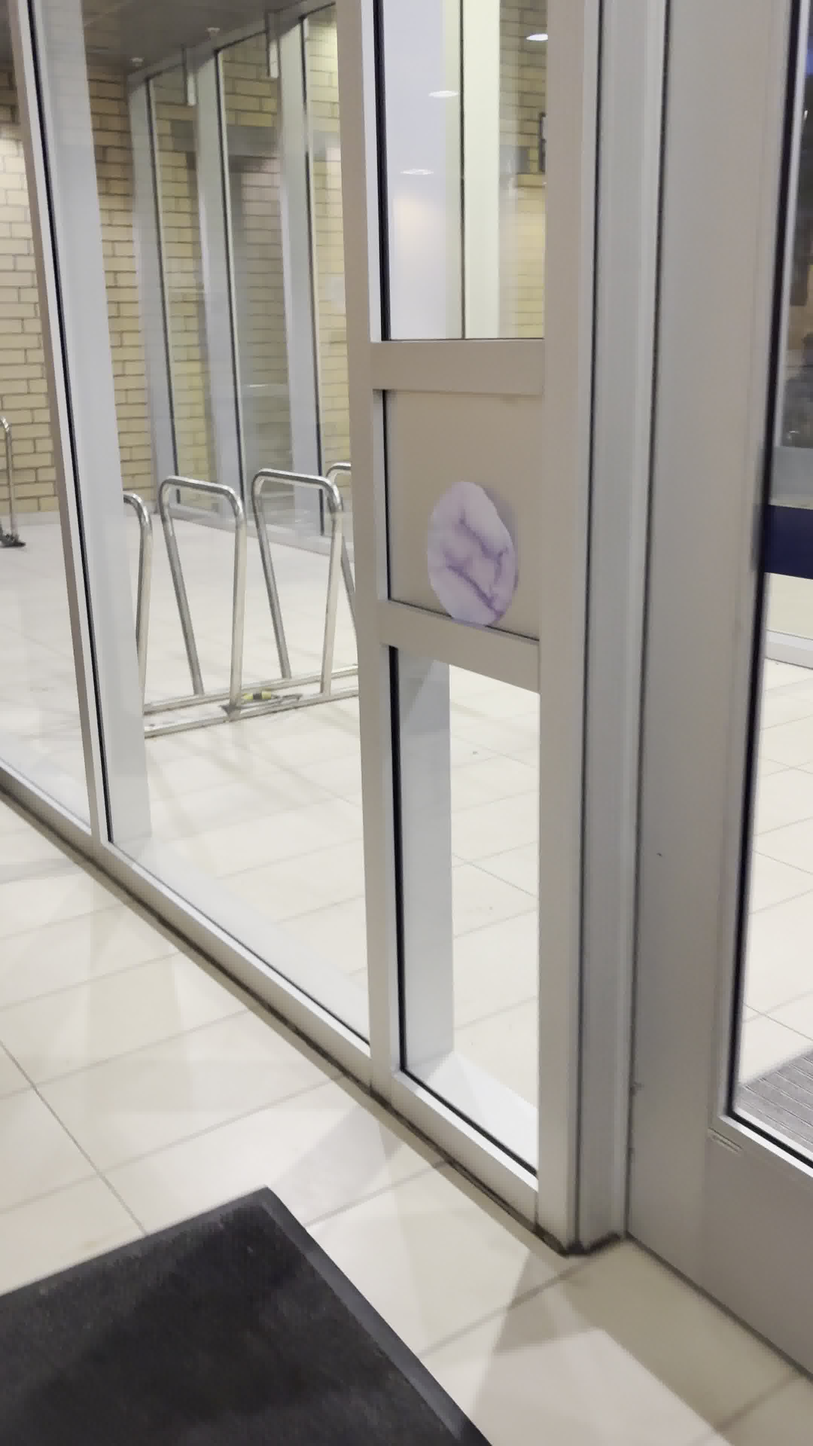Target: (422, 470, 525, 638)
